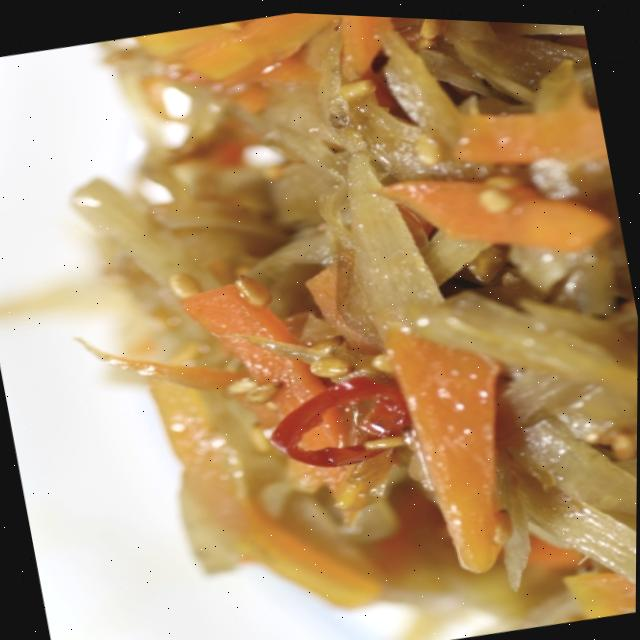蔬菜料理: (117, 4, 640, 640)
